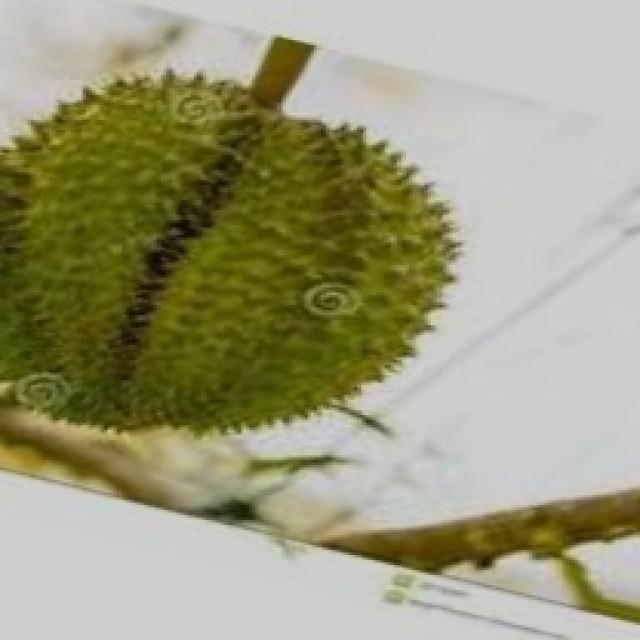fruit: (98, 82, 511, 488)
